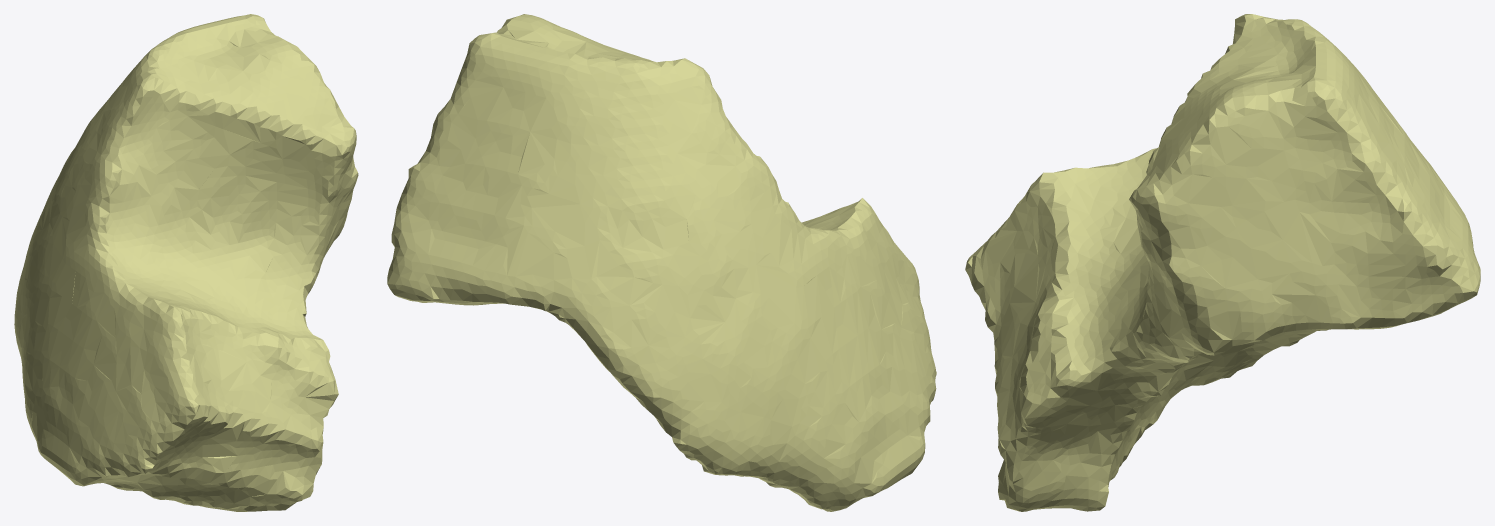
The model's file is Model_10118_LH__Proisocortical_motor_region_(precentral_opercular_cortex)_(ProM).obj.
3 views of the same model, side by side, from view 1: azimuth 30°, elevation 25°; view 2: azimuth 150°, elevation 25°; view 3: azimuth 270°, elevation 25° (orthographic). The views are drawn at different scales.
Size of the model in its own units: 3.6 by 4.21 by 4.08.
